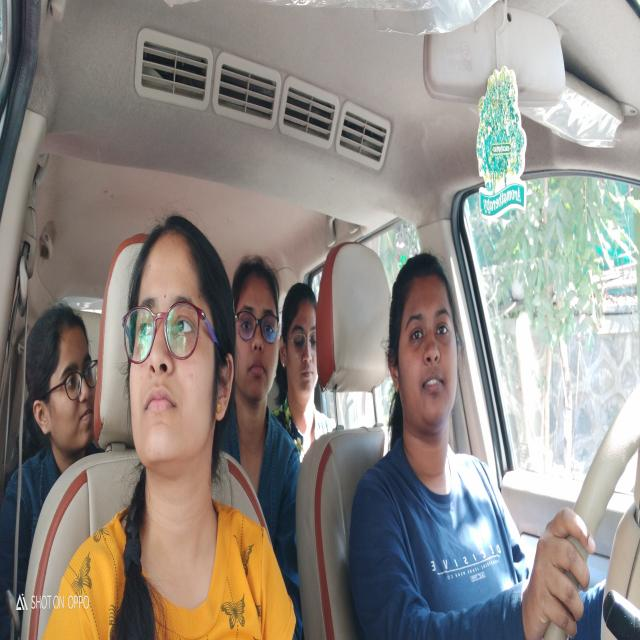person: (120, 218, 235, 481), (386, 244, 463, 438), (25, 290, 97, 453), (232, 259, 278, 406), (281, 272, 324, 409)
